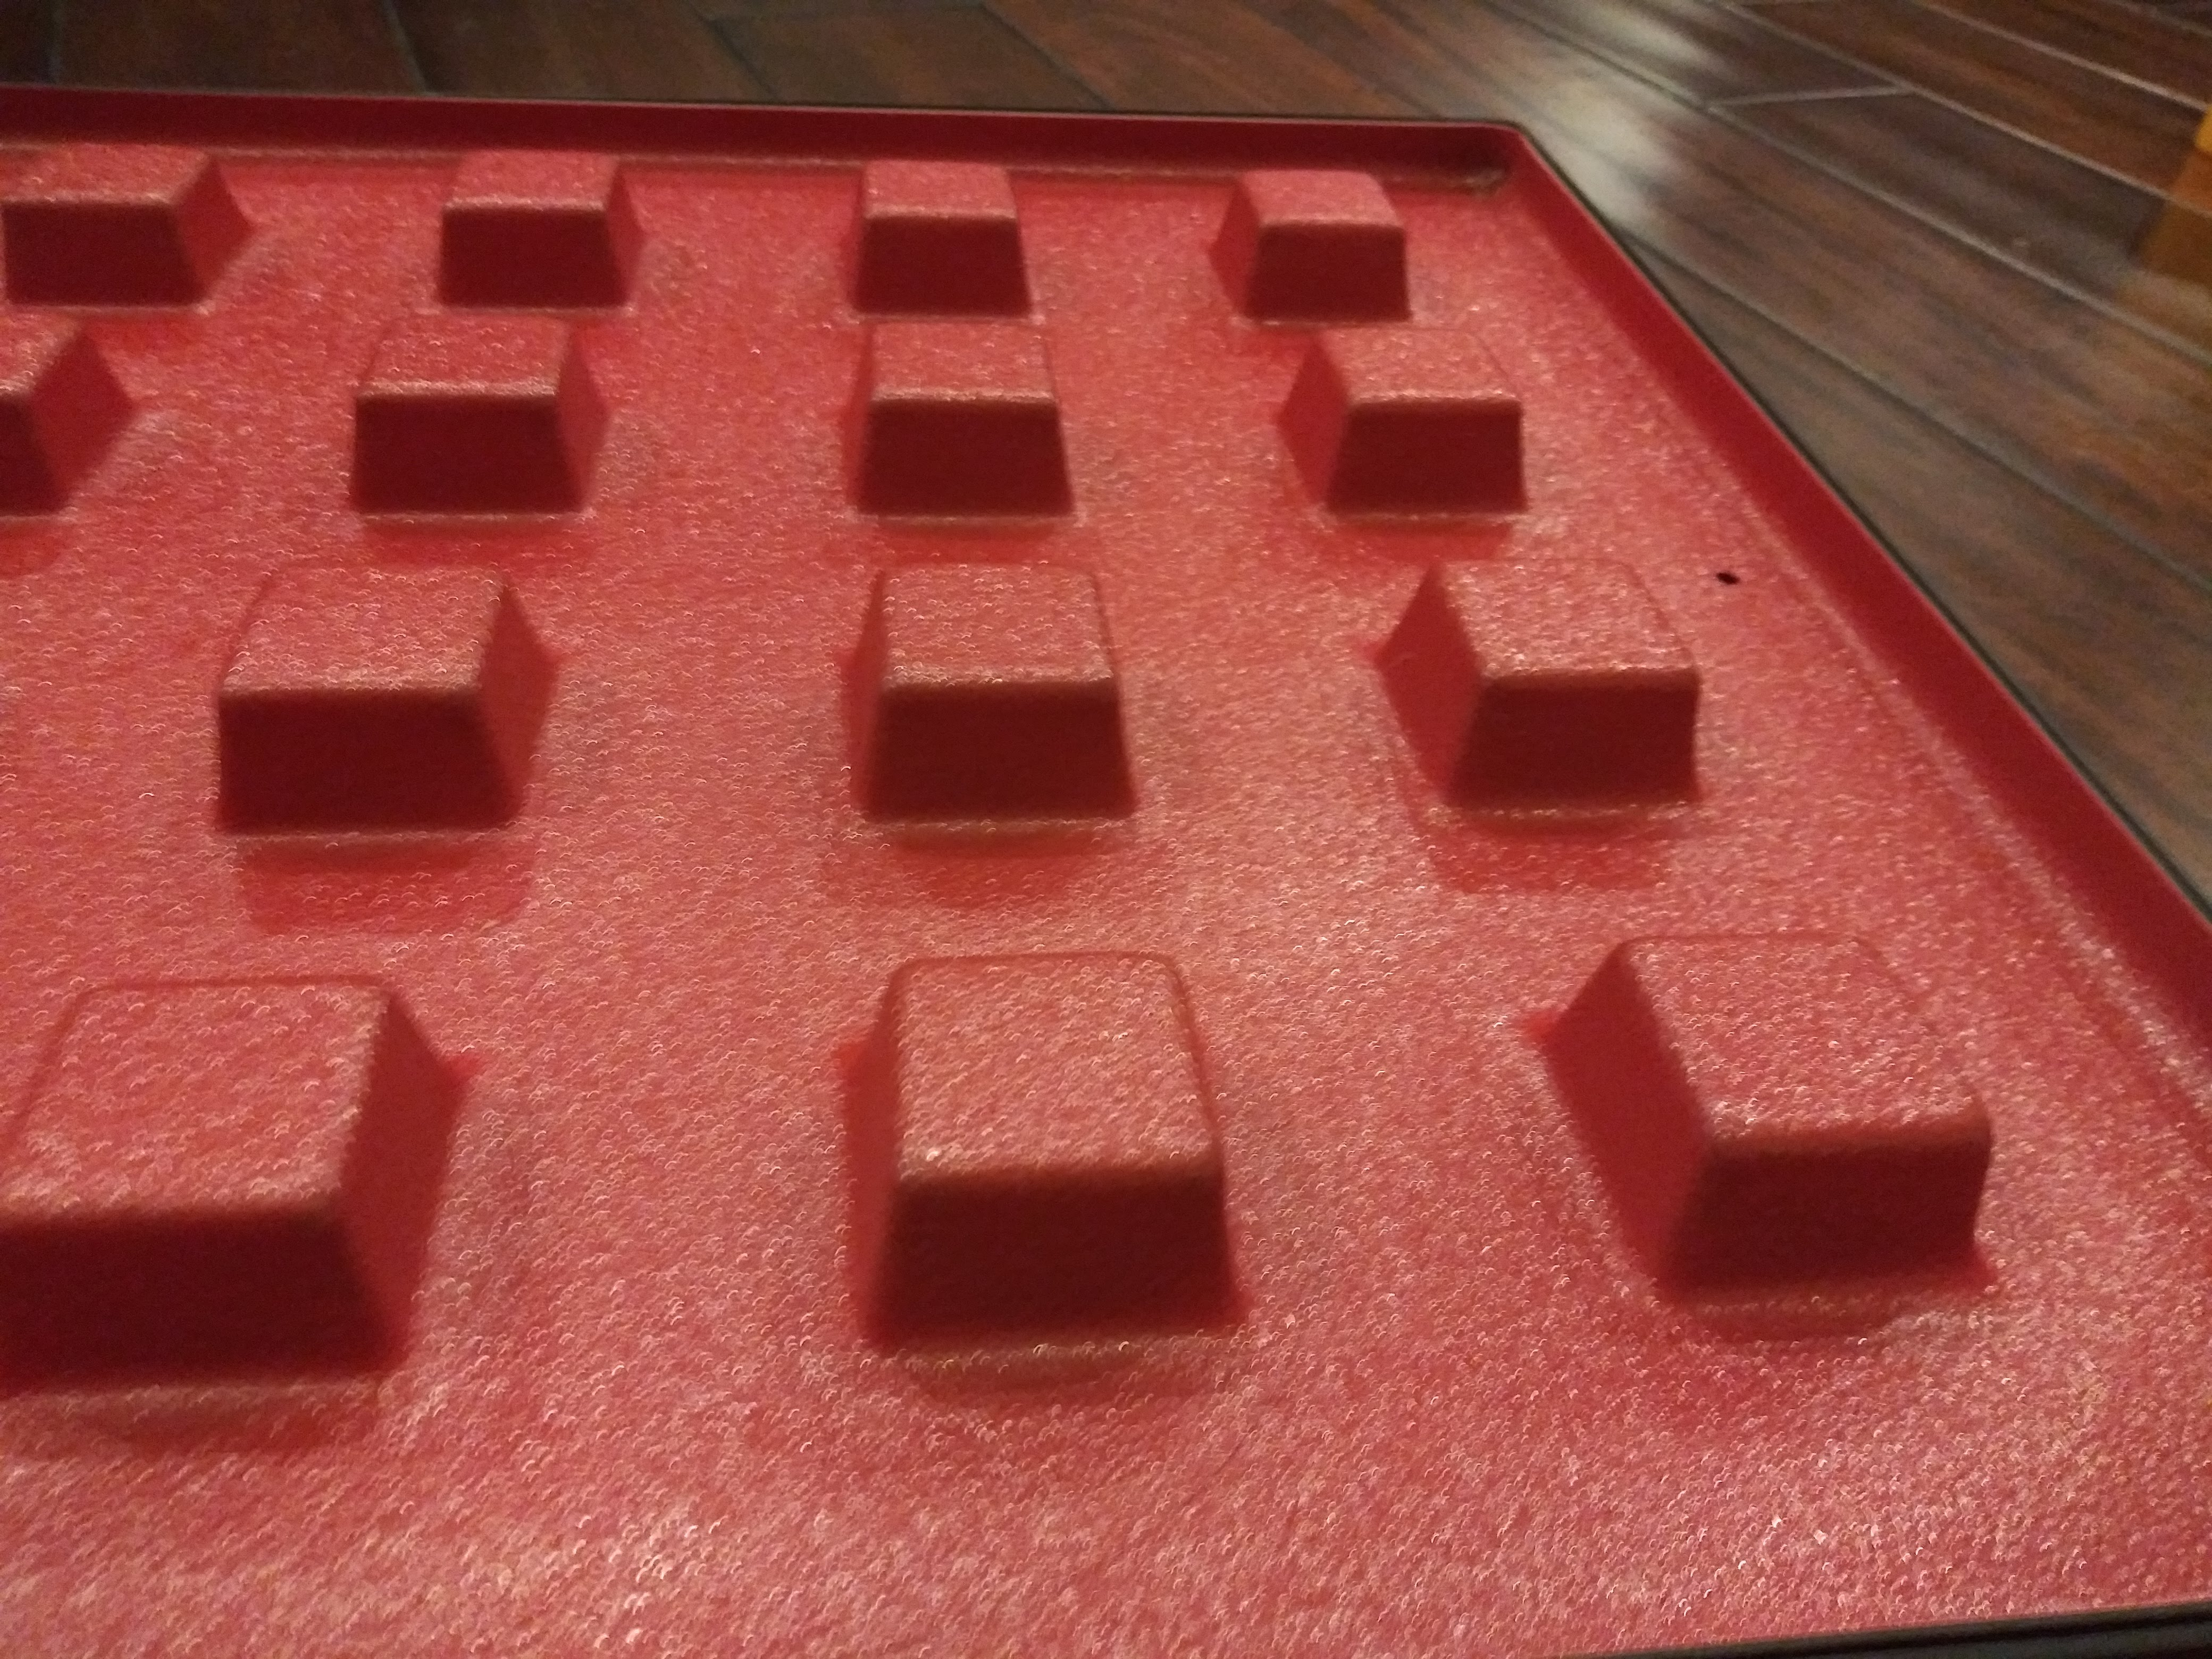red foundation: (30, 85, 2036, 1633)
